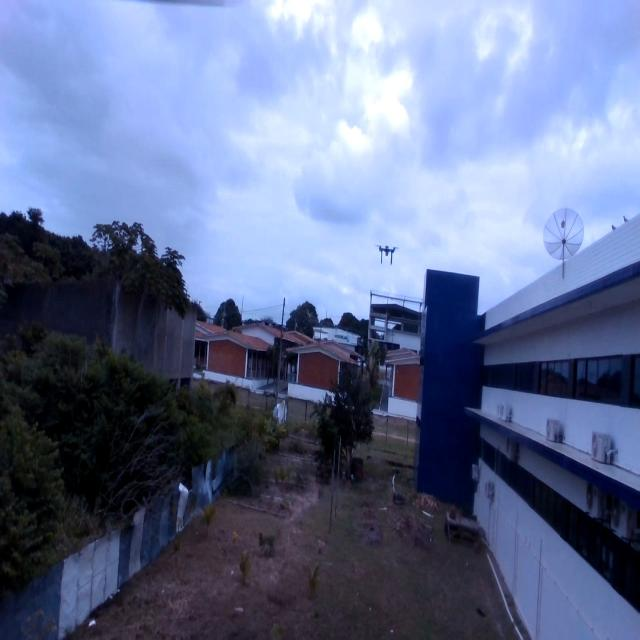-uav-: (372, 234, 401, 276)
